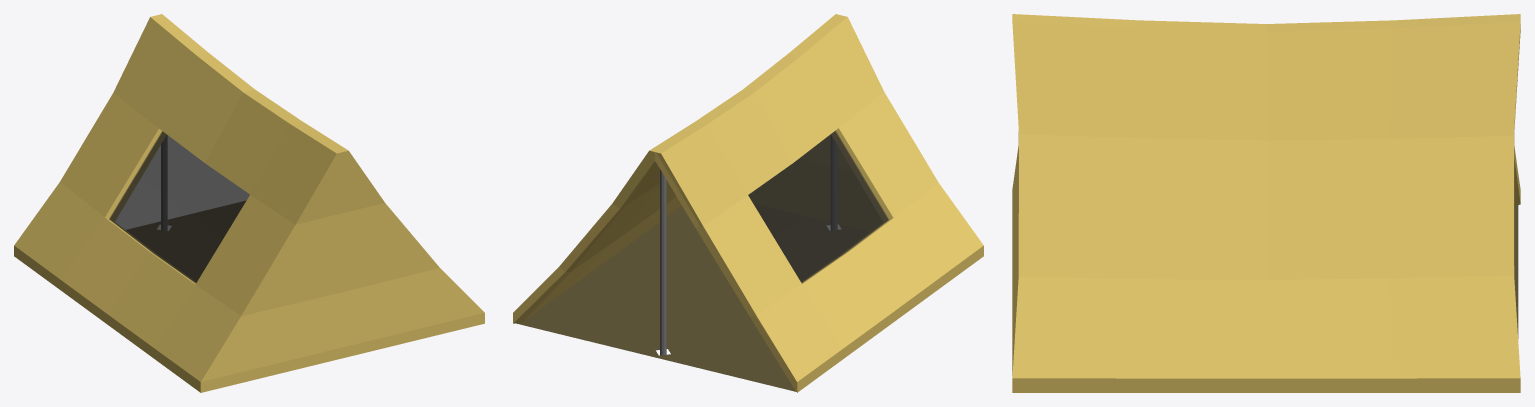
The model's file is TempTent.fbx.
3 renders of one model, left to right at view 1: azimuth 30°, elevation 25°; view 2: azimuth 150°, elevation 25°; view 3: azimuth 270°, elevation 25°, orthographic. The views are drawn at different scales.
Visible parts, largest first — view 1: Tent; view 2: Tent; view 3: Tent.
Boxes of the visible parts, bbox=[...] form: Tent: bbox=[14, 14, 484, 392]; Tent: bbox=[513, 14, 983, 392]; Tent: bbox=[1012, 14, 1520, 392].
Bounding box in the file's own units: 735 × 520 × 837.
